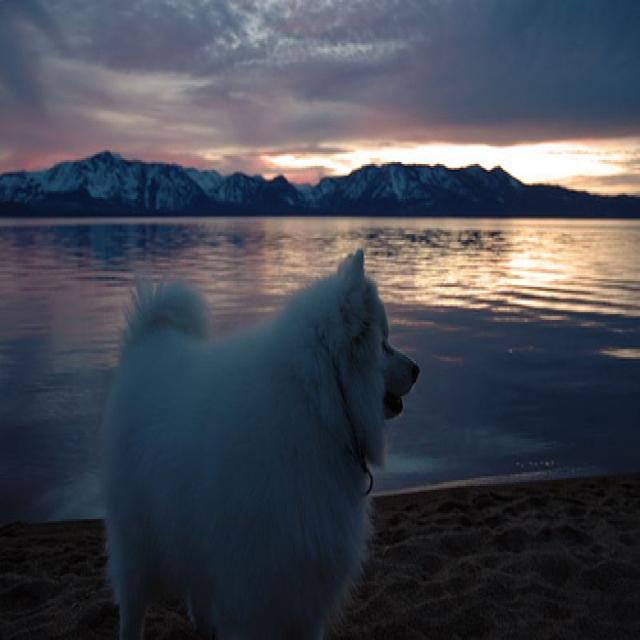dog: (87, 277, 442, 640)
